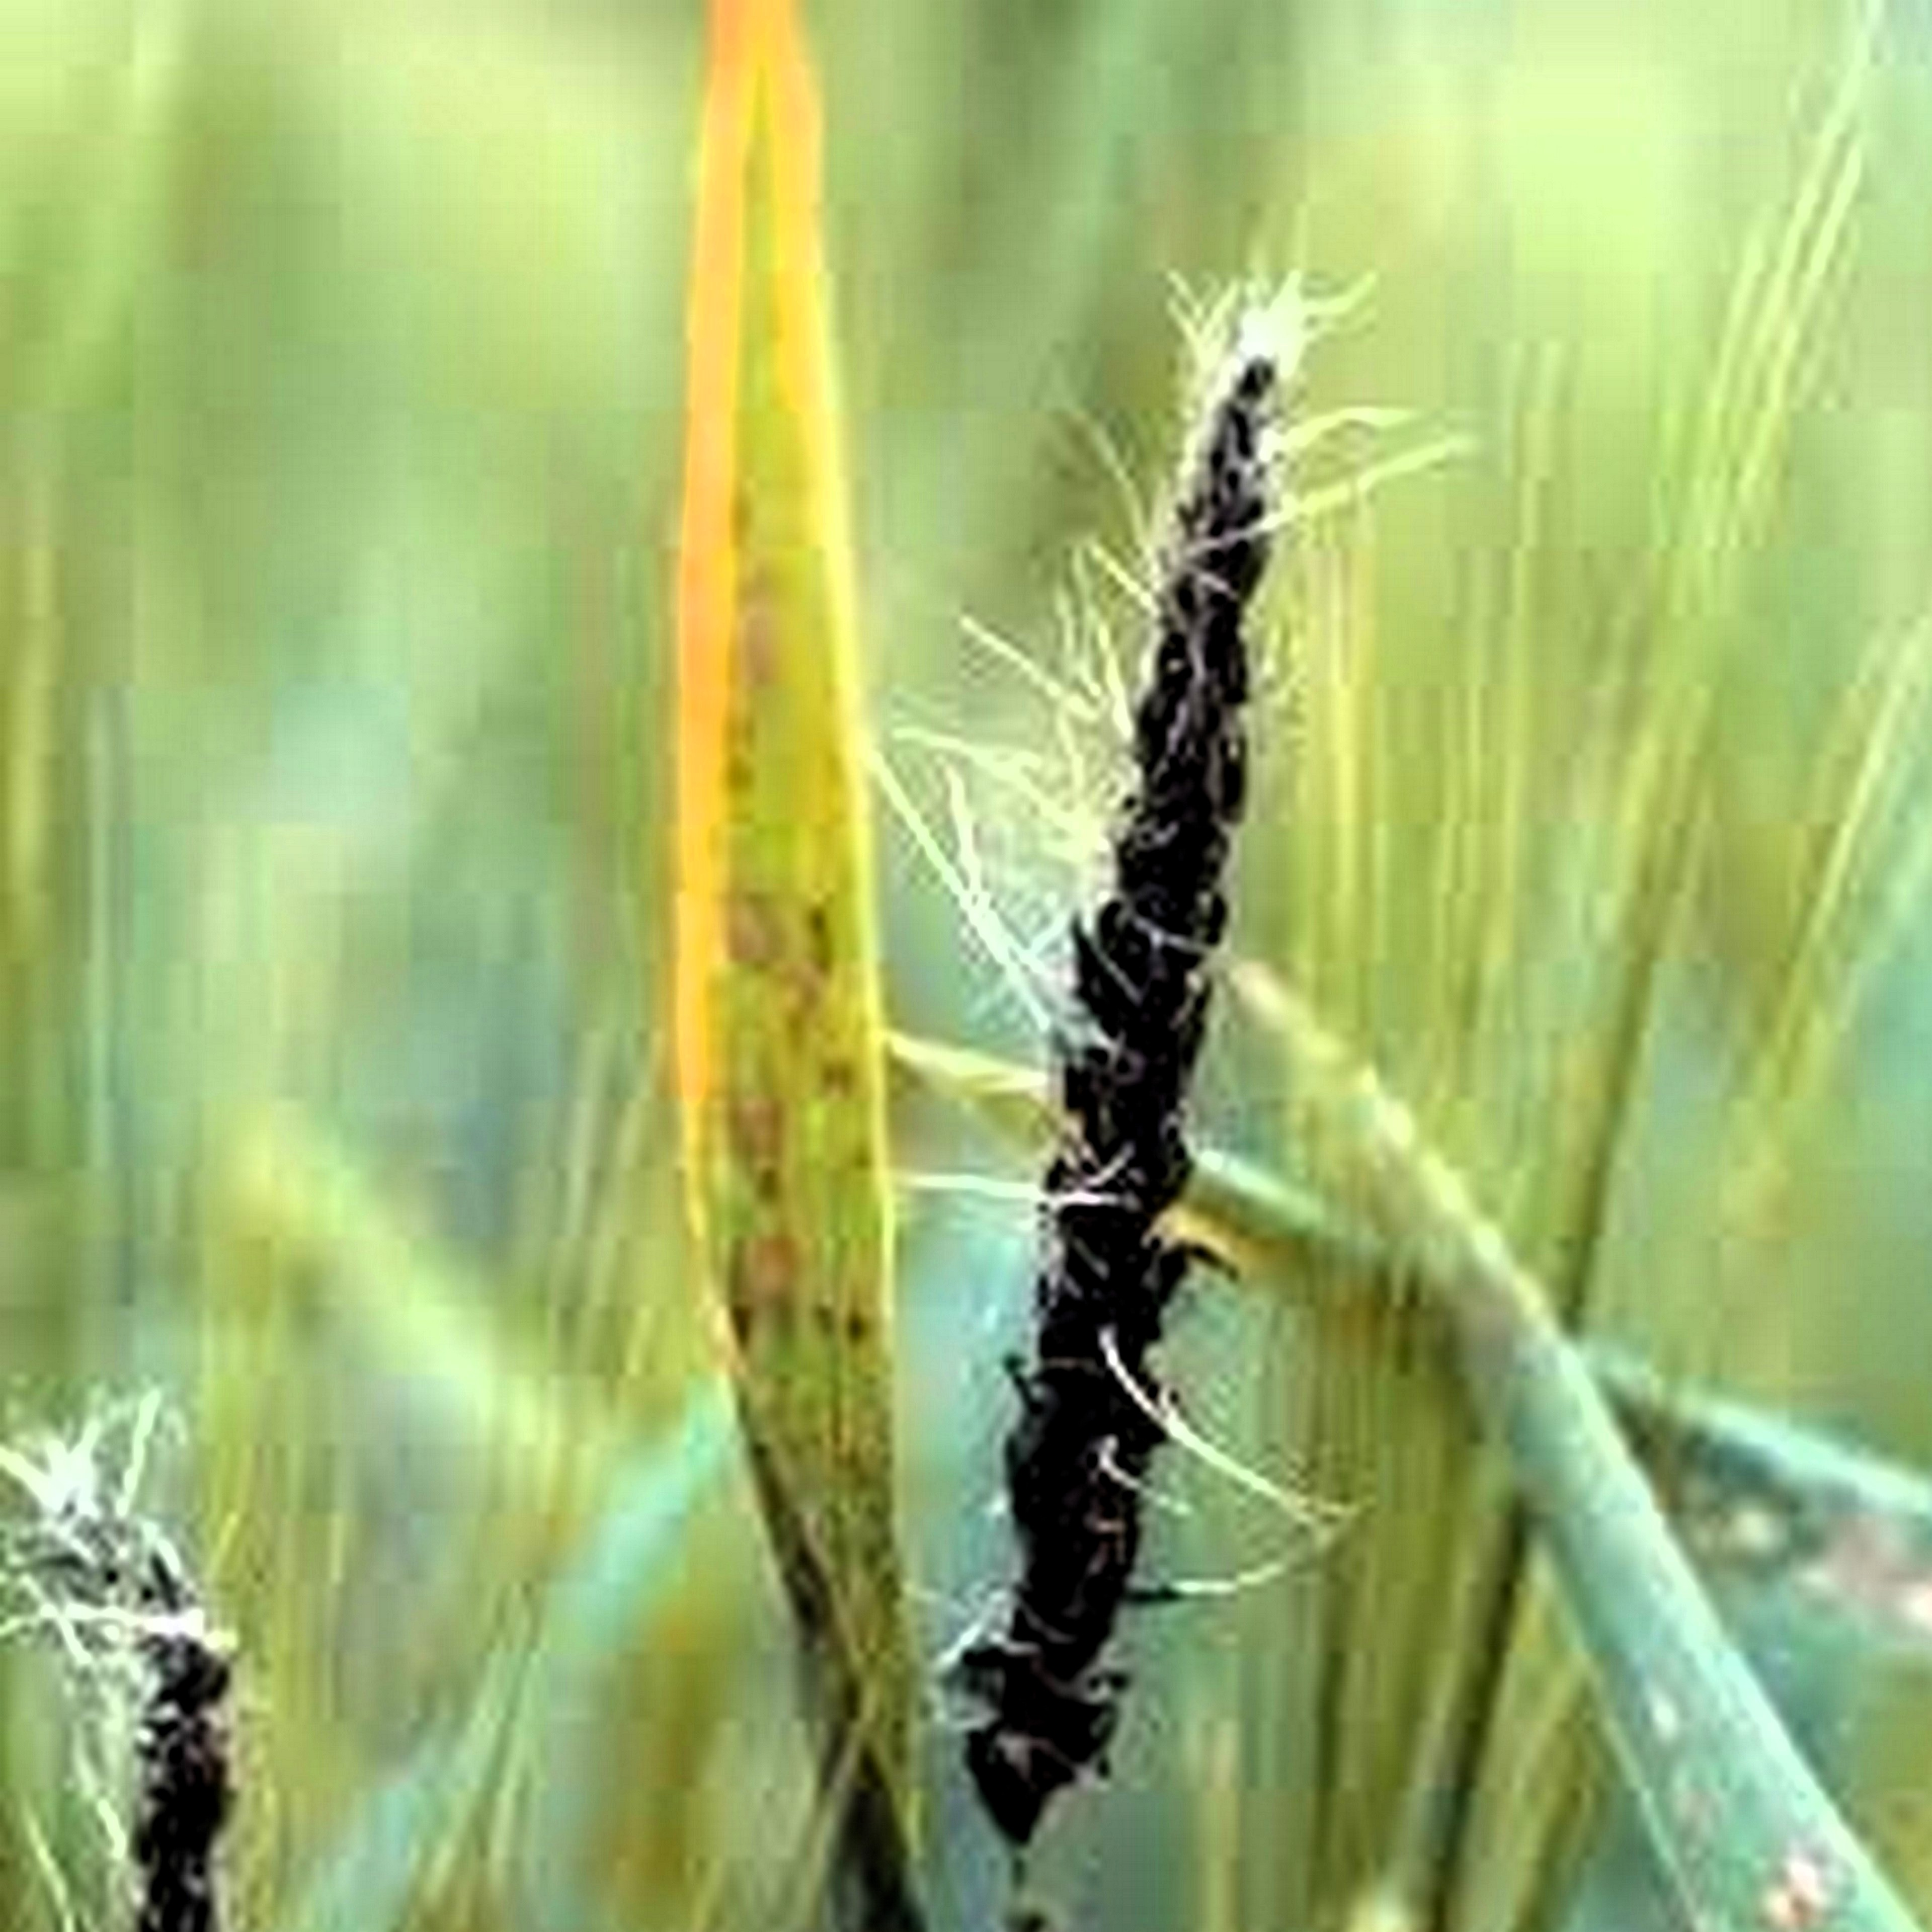Wheat Loose Smut: (939, 251, 1438, 1382)
